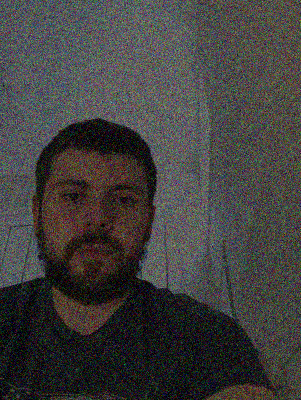without_mask: (43, 169, 149, 308)
